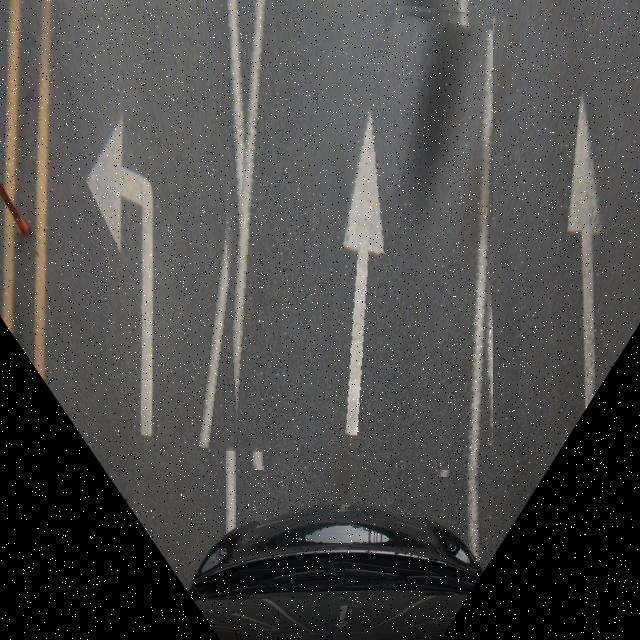forward: (212, 0, 493, 470)
